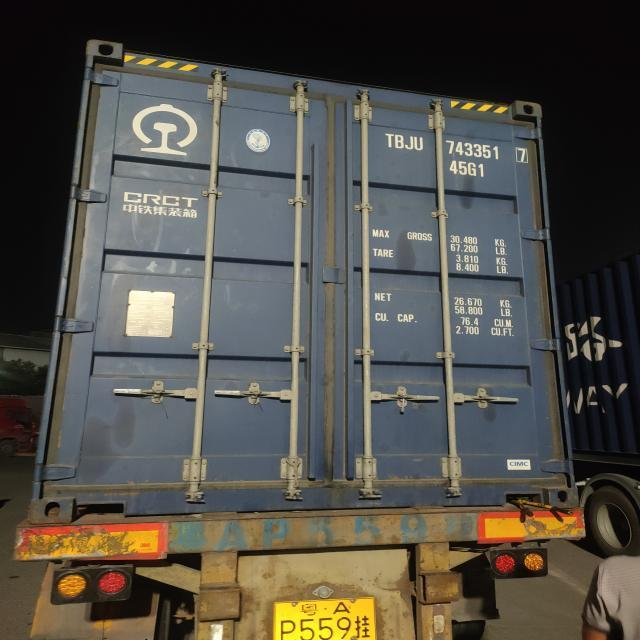ISO: (448, 162, 486, 178)
container_number: (388, 138, 539, 160)
